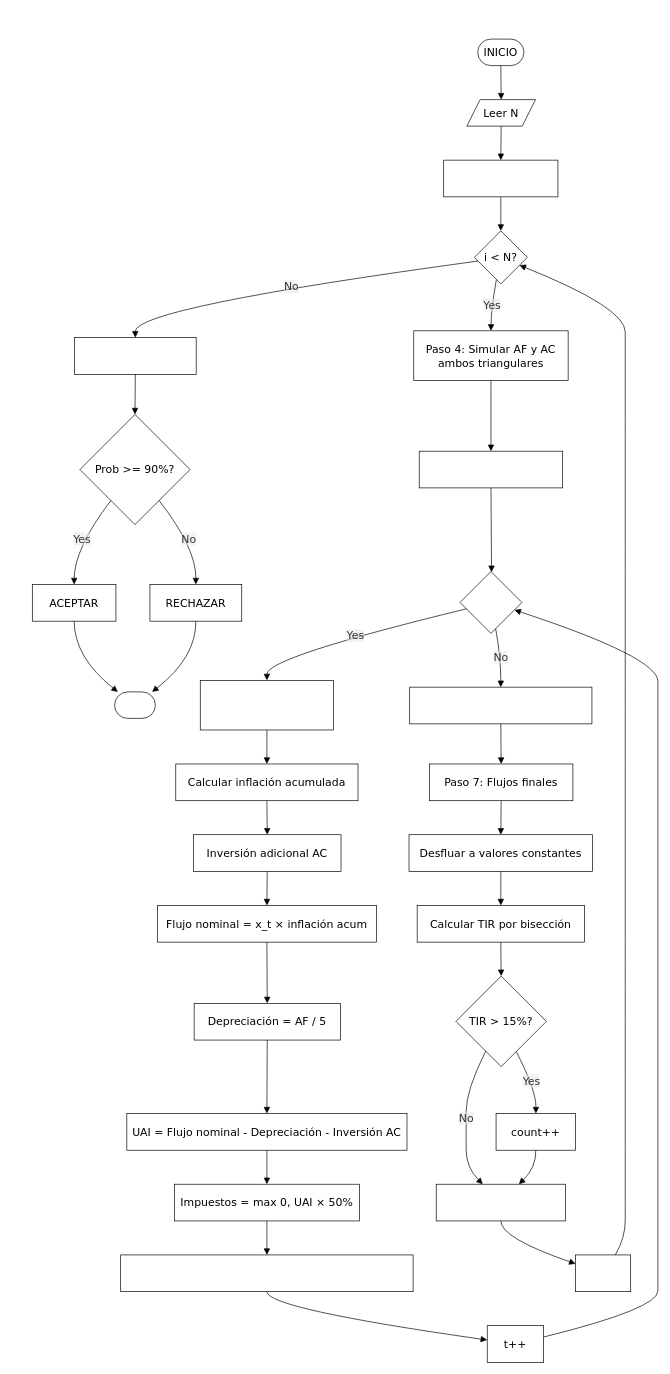
Image size: 670x1374. Some labels were removed from this diagram. Here are the shapes that lost their labels. From the top down, the centre of each, then its label:
At [500,178]: "i = 0, count = 0".
At [135,355]: "Prob = count / N".
At [491,469]: "Paso 5: Para t = 1 a 5".
At [490,602]: "t <= 5?".
At [134,704]: "FIN".
At [267,705]: "Simular x_t e i_t ambos triangulares".
At [500,705]: "Paso 6: VR = 20%AF + 100%AC".
At [500,1202]: "Guardar resultado".
At [266,1273]: "Flujo S_t = Flujo nominal - Impuestos - Inversión AC".
At [603,1273]: "i++".
